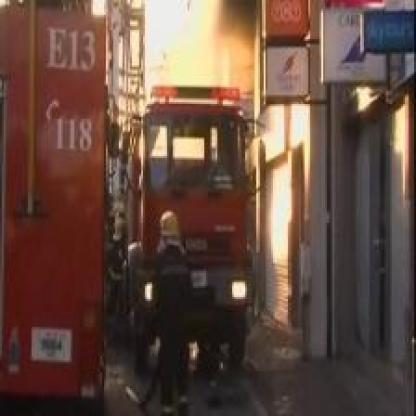fire: (124, 2, 197, 89)
